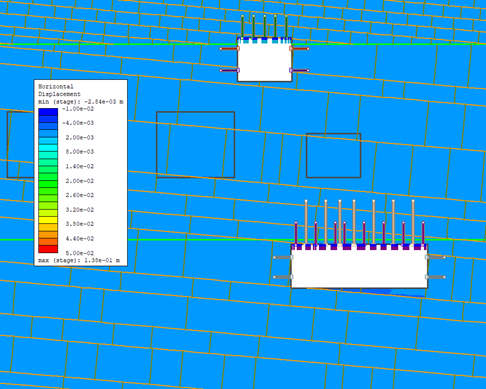crown: (343, 231, 382, 242), (254, 29, 272, 36)
label: (34, 79, 128, 265)
tunnel-opening: (292, 243, 428, 288), (237, 38, 292, 81)
